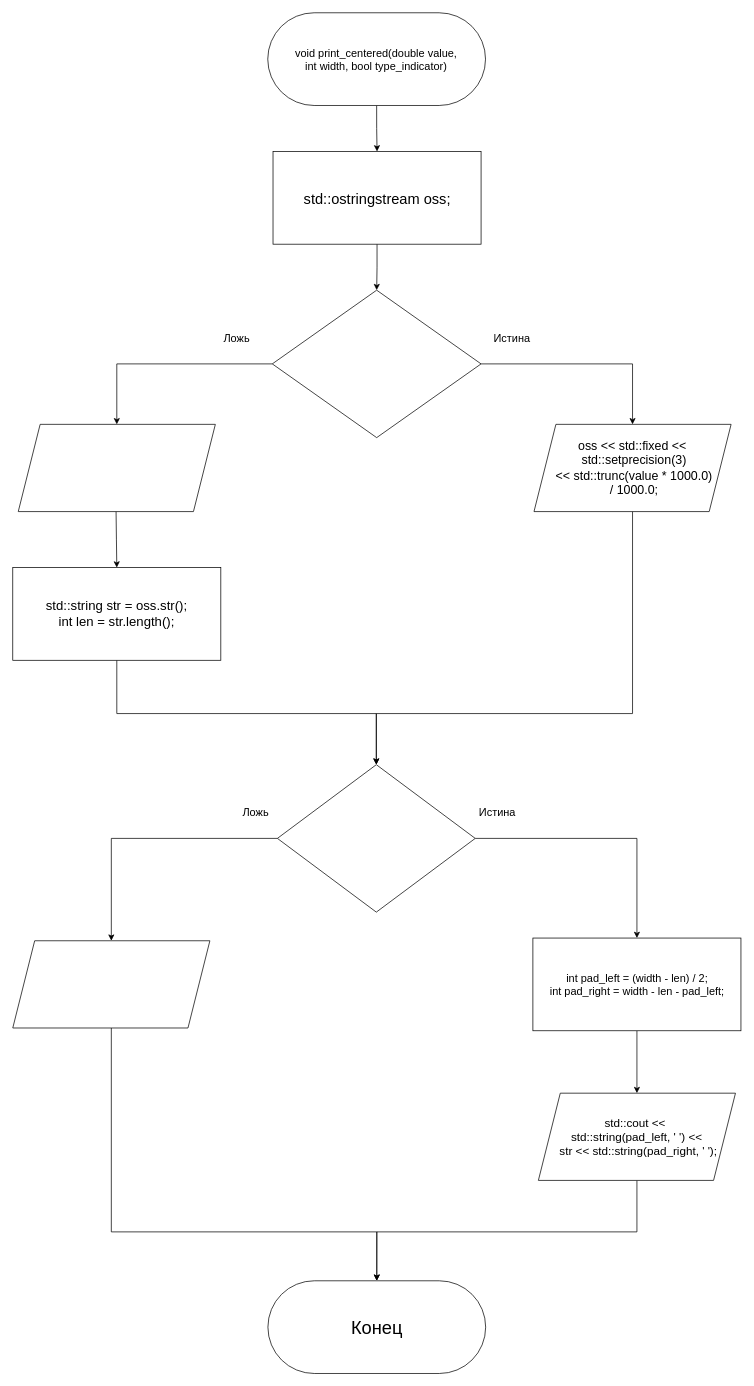
This 754x1386 diagram has some shape labels left out. Each missing label, with the centre of its shape:
if (type_indicator): the point at 376,363
if (width > len): the point at 376,838
oss << std::defaultfloat << std::setprecision(6) << value;: the point at 116,468
std::cout << str << ' ';: the point at 111,984
